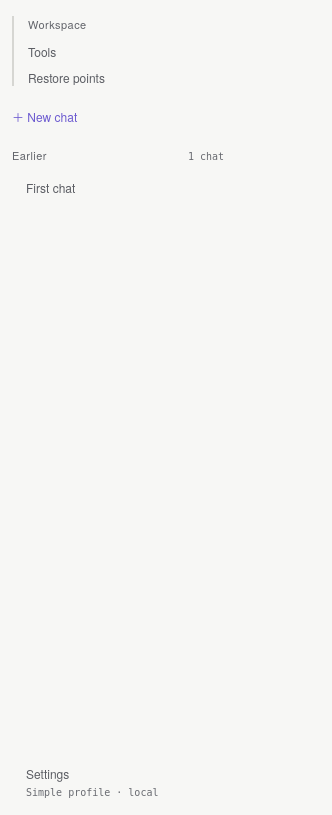
sidebar chat rename › Escape cancels without renaming and restores the title
Step 1. Double-click the button "First chat" → (118,188), box [12,173,224,202]
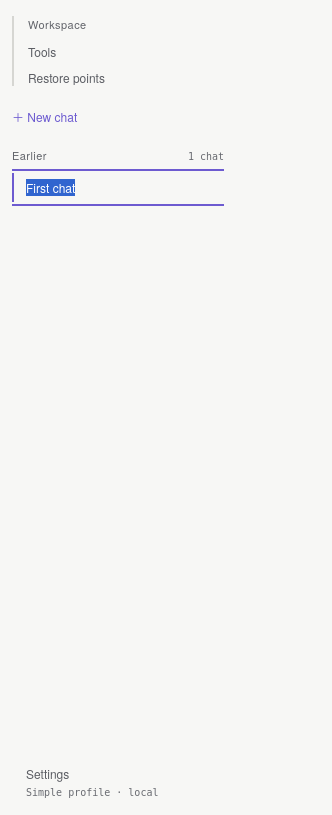
Step 2. Replace the text in the field named "Rename chat" with "Discarded" → (118,188), box [12,173,224,202]
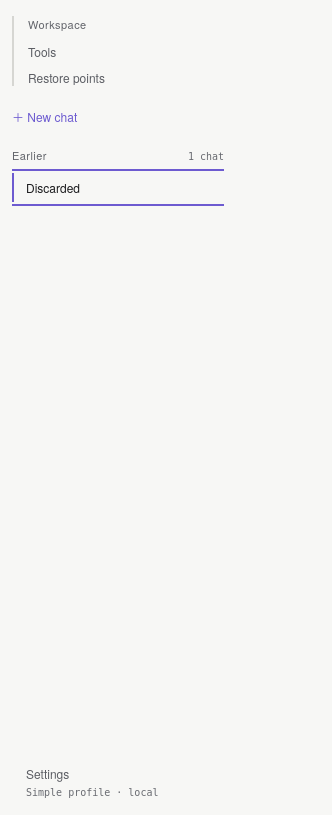
Step 3. Press Escape in the field named "Rename chat", box [12,173,224,202]
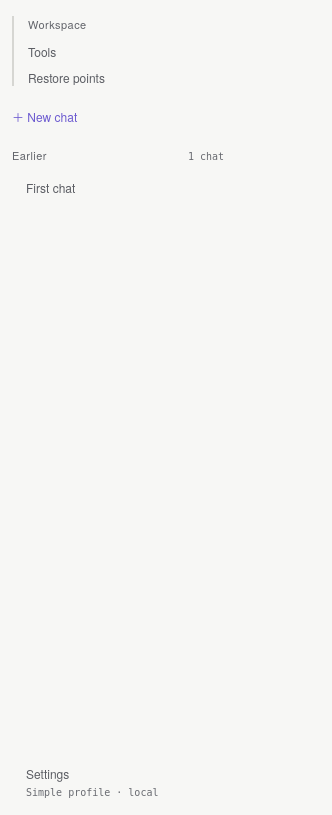
Result: the button "First chat" is shown at [12,173,224,202]
